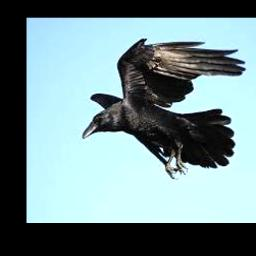Crow: (84, 37, 247, 180)
